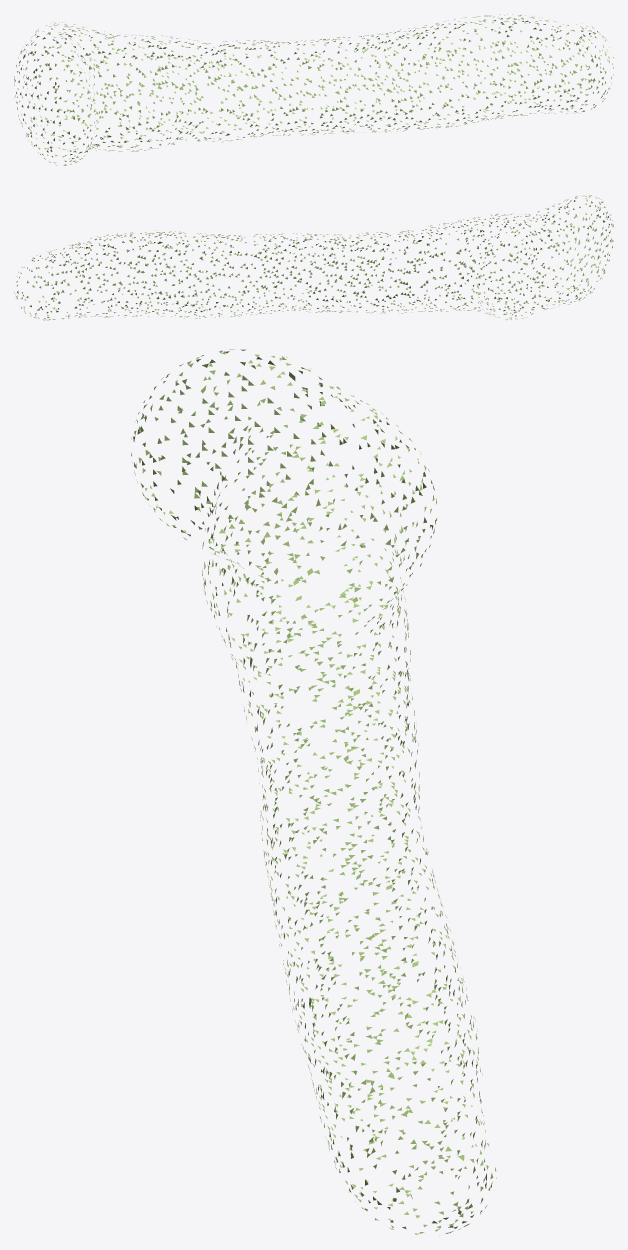
Rendered from morph_012.glb.
3 renders of one model, top to bottom at view 1: azimuth 30°, elevation 25°; view 2: azimuth 150°, elevation 25°; view 3: azimuth 270°, elevation 25°, orthographic. The views are drawn at different scales.
Bounding box in the file's own units: 138 × 51.4 × 41.7.
